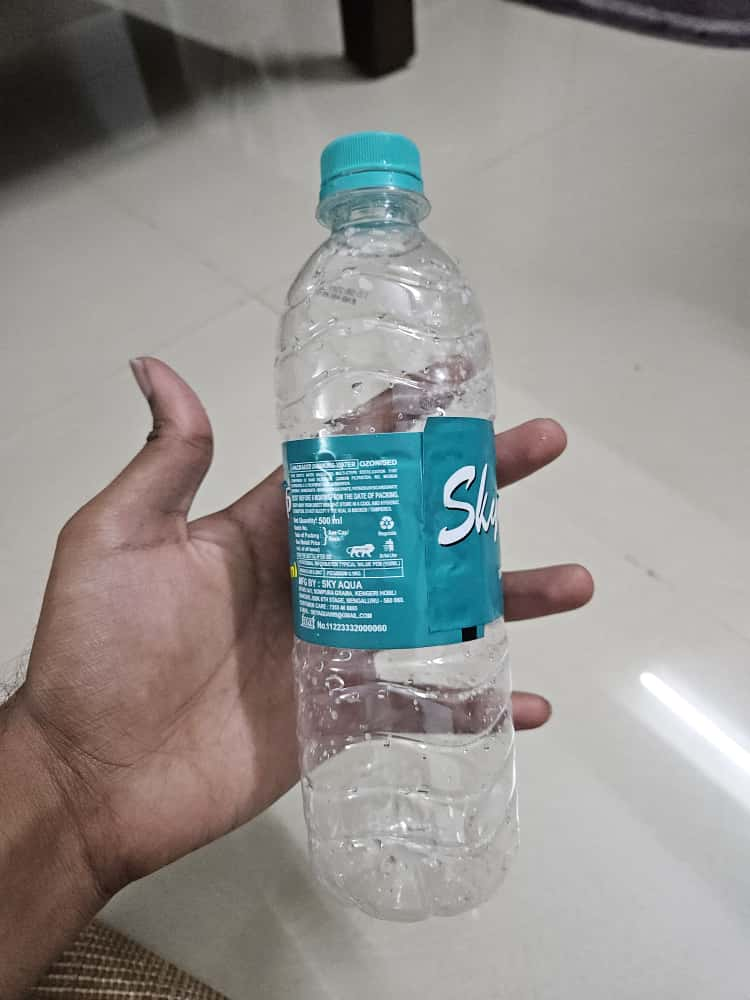dry: (268, 140, 532, 939)
